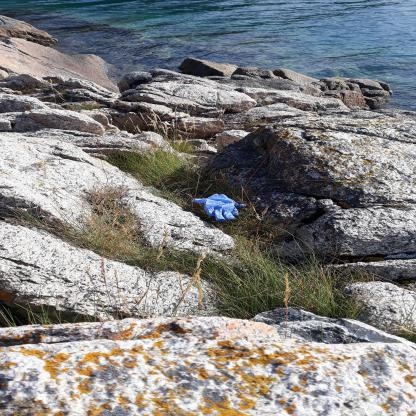Plastic glooves: (192, 194, 246, 222)
